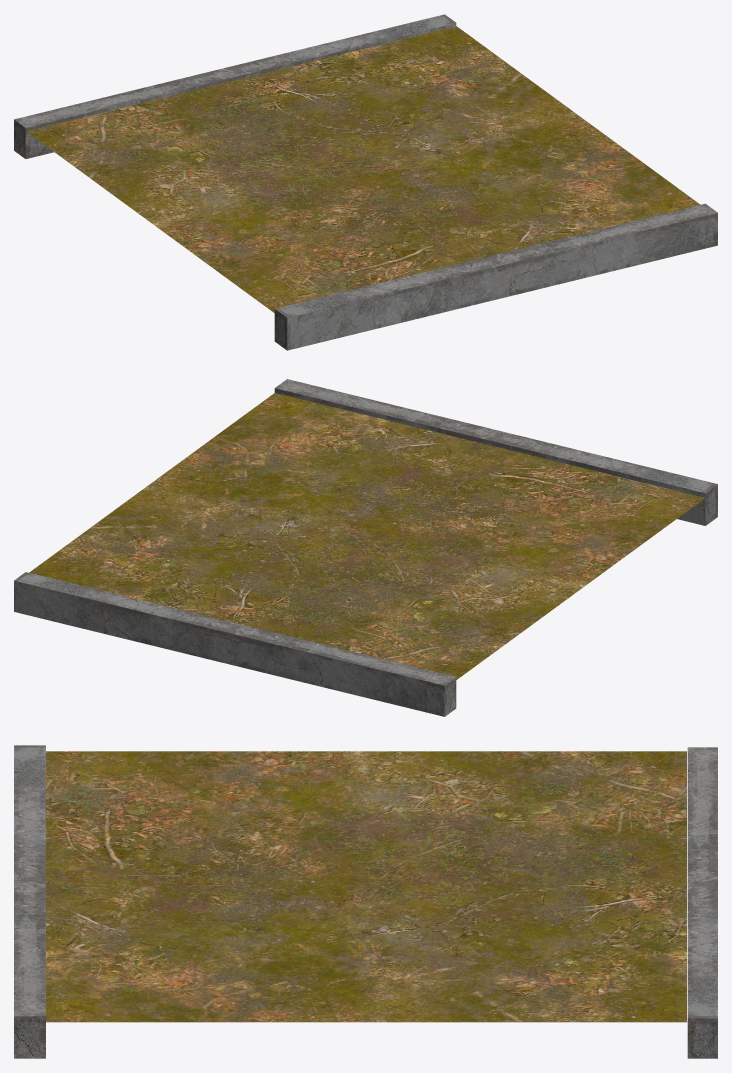
Rendered from HH_Concrete_Island_Ground_4x4m.fbx.
The picture shows the model from 3 angles, top to bottom: view 1: azimuth 30°, elevation 25°; view 2: azimuth 150°, elevation 25°; view 3: azimuth 270°, elevation 25°; orthographic projection. The views are drawn at different scales.
Parts seen in each view (by area): view 1: HH_Concrete_Island_Ground_4x4m; view 2: HH_Concrete_Island_Ground_4x4m; view 3: HH_Concrete_Island_Ground_4x4m.
Boxes of the visible parts, x1=… form: HH_Concrete_Island_Ground_4x4m: x1=14, y1=14, x2=717, y2=350; HH_Concrete_Island_Ground_4x4m: x1=14, y1=379, x2=717, y2=716; HH_Concrete_Island_Ground_4x4m: x1=14, y1=745, x2=717, y2=1058.
Bounding box in the file's own units: 400 × 29.16 × 439.
